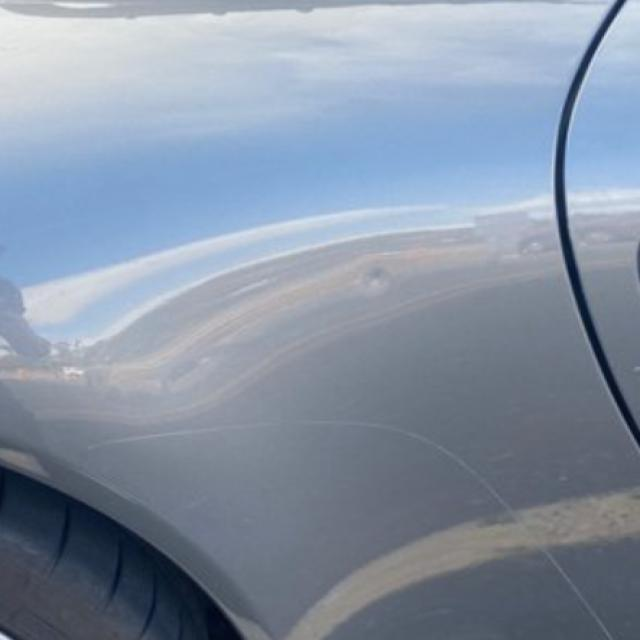dents: (345, 247, 432, 326)
